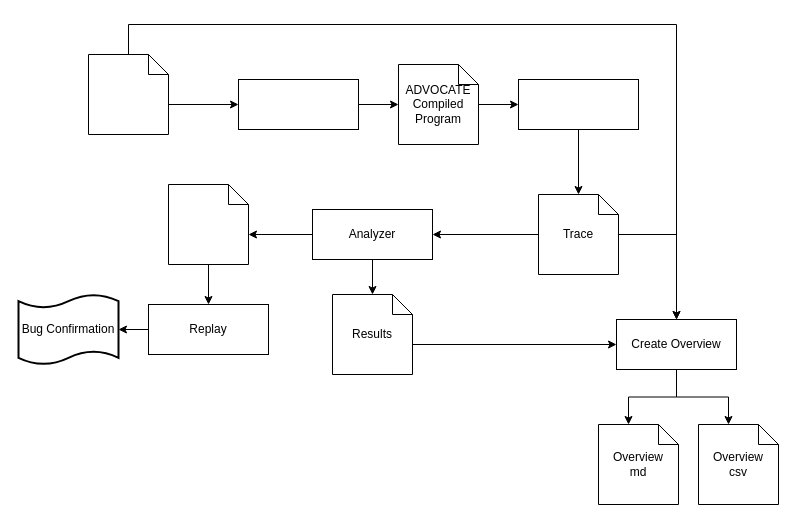
This 796x522 diagram has some shape labels left out. The shapes that lost their labels are listed below. From the top down, each one's box as (x1, y1, x2, y2) in pixels, then its label:
(88, 54, 168, 134): Program
(238, 78, 358, 130): ADVOCATE Build
(518, 78, 638, 130): ADVOCATE Run
(168, 184, 248, 264): Rewritten Trace
